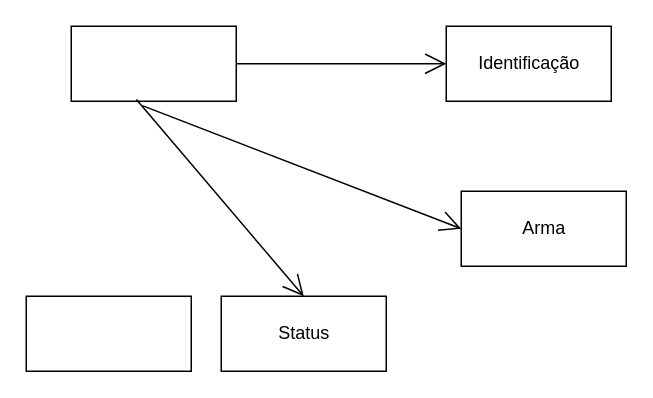
This 653x398 diagram has some shape labels left out. The shapes that lost their labels are listed below. From the top down, each one's centre as x and y in pixels, then its label:
[153,63]: Personagem
[108,333]: Principal
